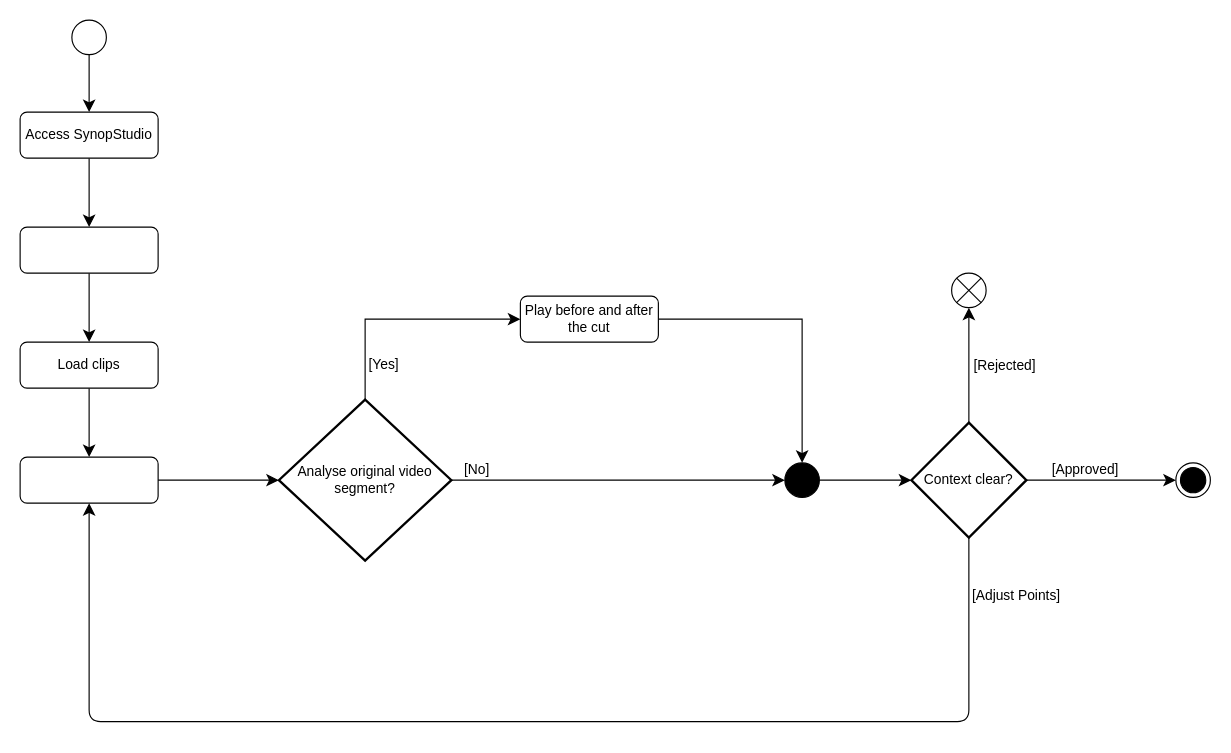
This 1231x753 diagram has some shape labels left out. Here are the shapes that lost their labels. From the top down, the box of each, then its label:
(19, 226, 158, 273): Access Projects
(19, 456, 158, 503): Show timestamps
